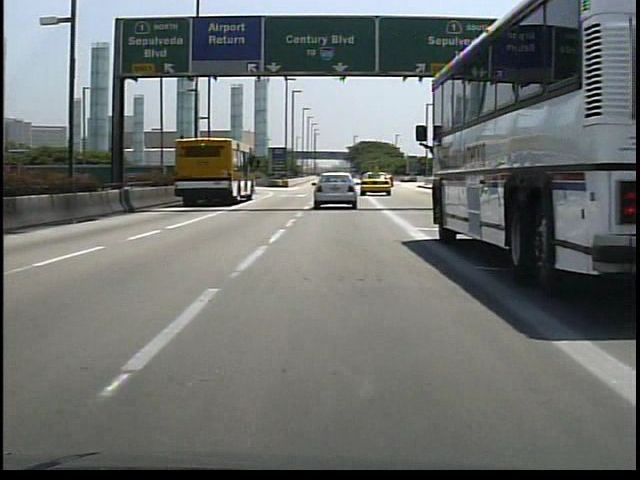car: (419, 4, 631, 334), (312, 169, 354, 207), (357, 171, 395, 198)
strada: (2, 239, 597, 459)
